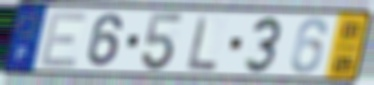3: (242, 14, 284, 74)
5: (139, 10, 186, 74)
6: (289, 16, 329, 76), (86, 12, 125, 69)
E: (37, 10, 90, 70)
L: (185, 13, 219, 73)
